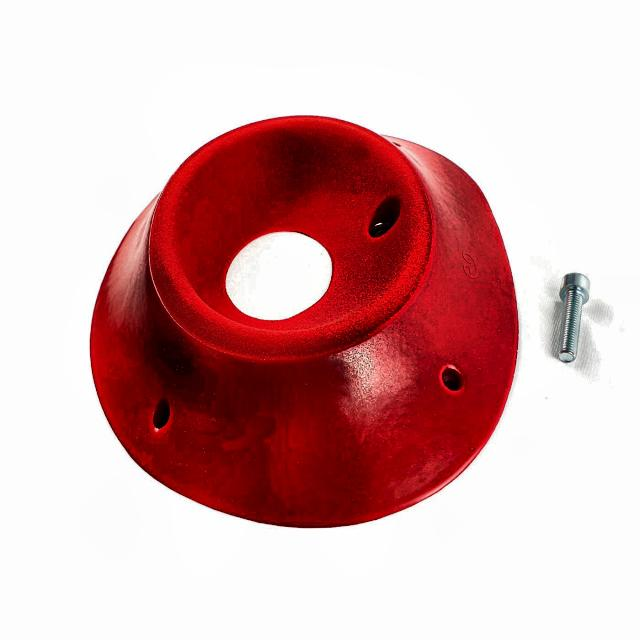Hold: (92, 111, 520, 533)
